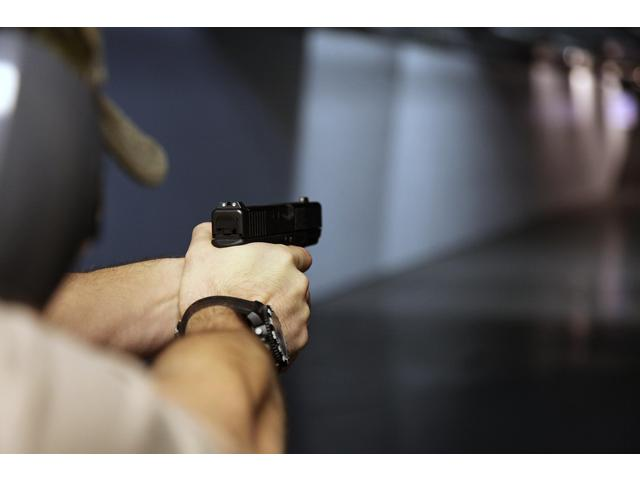pistol: (208, 196, 326, 346)
